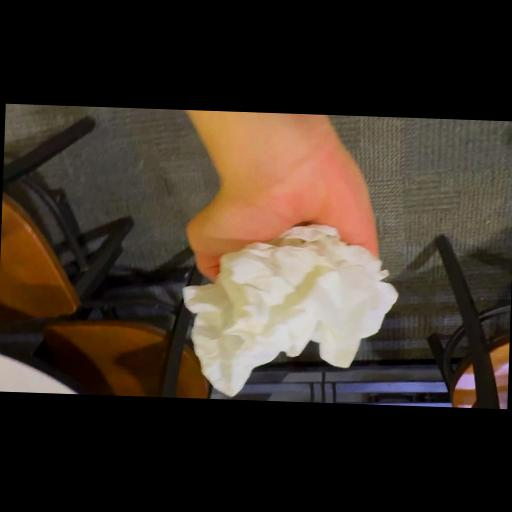napkin: (176, 217, 400, 405)
